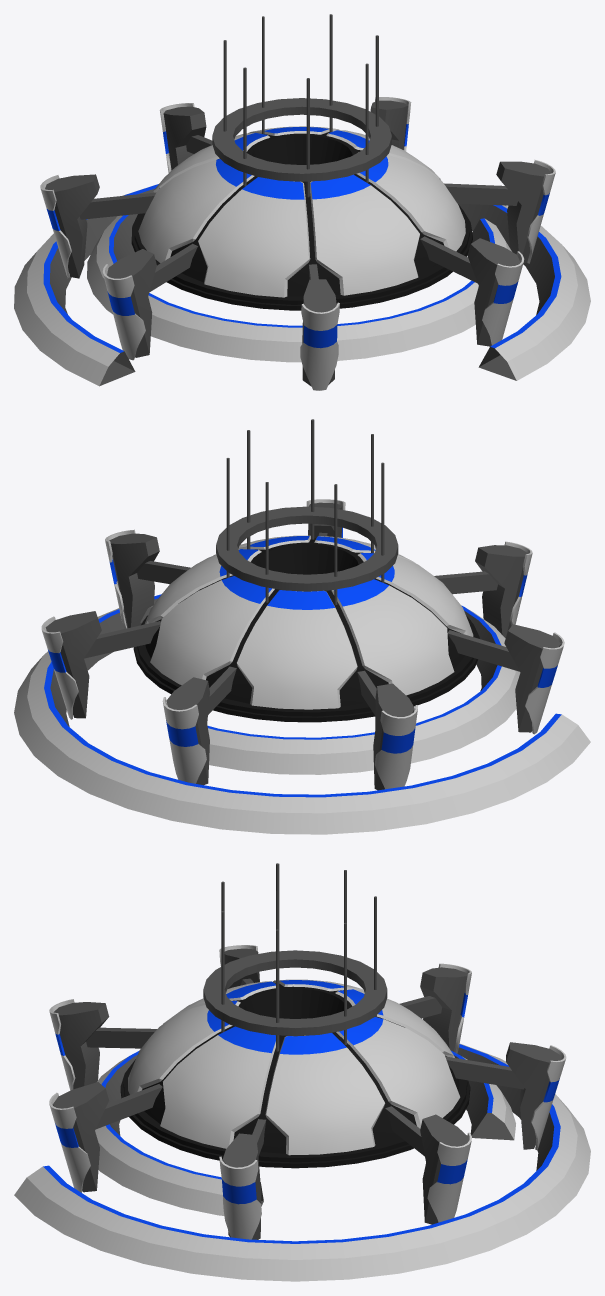
Rendered from MotherShip_01.FBX.
3 renders of one model, top to bottom at view 1: azimuth 30°, elevation 25°; view 2: azimuth 150°, elevation 25°; view 3: azimuth 270°, elevation 25°, orthographic. The views are drawn at different scales.
Visible parts, largest first — view 1: Cylinder006; view 2: Cylinder006; view 3: Cylinder006.
Part boxes in pixels (x1,y1,x2,y2): Cylinder006: [14, 14, 590, 390]; Cylinder006: [14, 419, 590, 834]; Cylinder006: [14, 863, 590, 1281].
Bounding box in the file's own units: 503 × 491 × 245.
